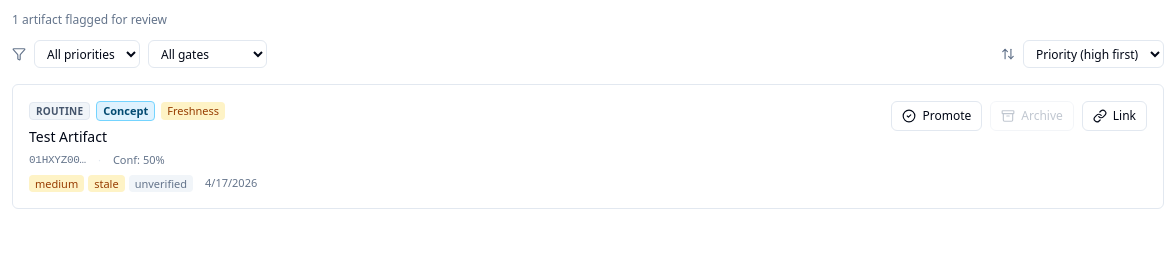
Scenario: ReviewQueue — Promote action: error path › re-enables the Promote button after a failure
This screenshot has width=1176, height=272.
Click the button "Promote".
click(937, 116)  # box [891,101,982,131]
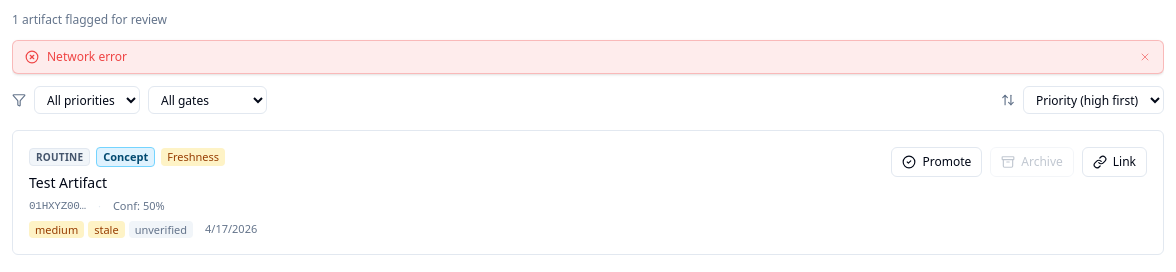
Check: the button "Promote" is enabled, box [891,147,982,177]
Check: the text "Network error" is shown, box [47,48,127,65]
